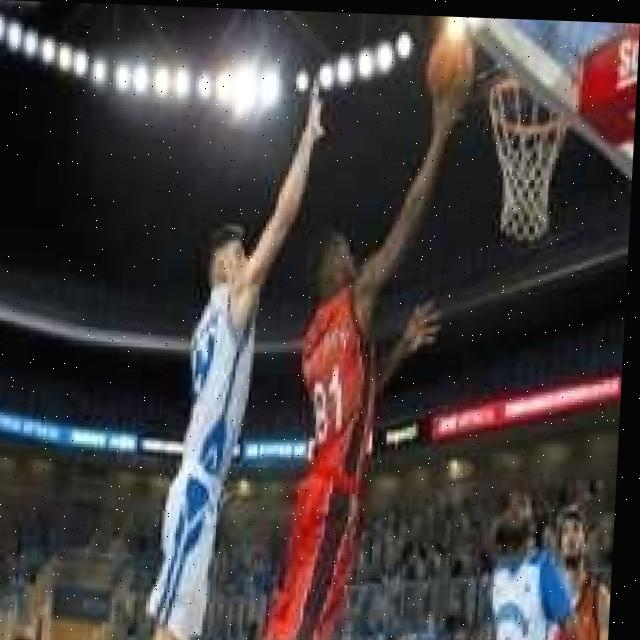basketball: (420, 21, 484, 112)
hoop: (480, 69, 575, 247)
